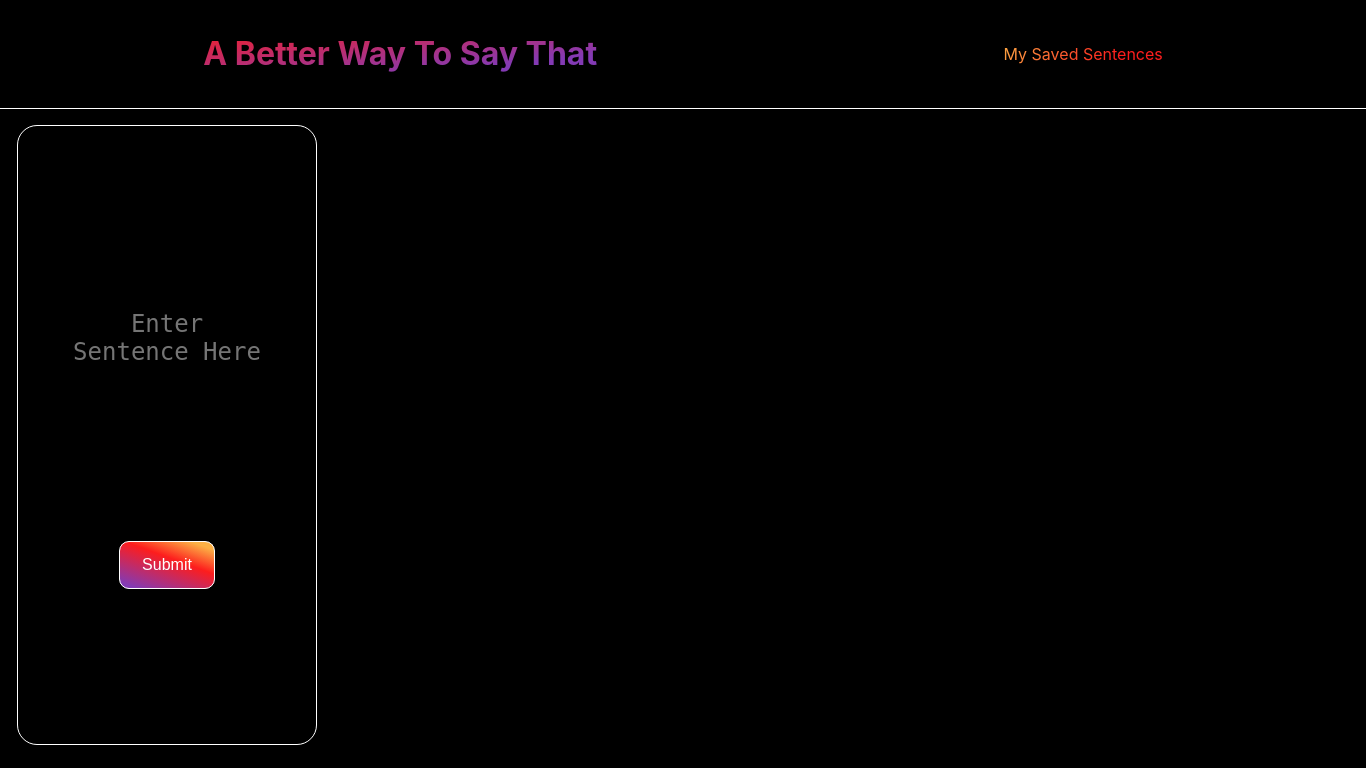
Test: Submit Sentence › Should be able to submit a positive sentence, click the negative option, and see a new negative sentence
The image size is (1366, 768).
Type "Bunnies make me feel happy calm and ecstatic" into the text box with placeholder "Enter Sentence Here" at x=168, y=333, box [39, 281, 296, 384]
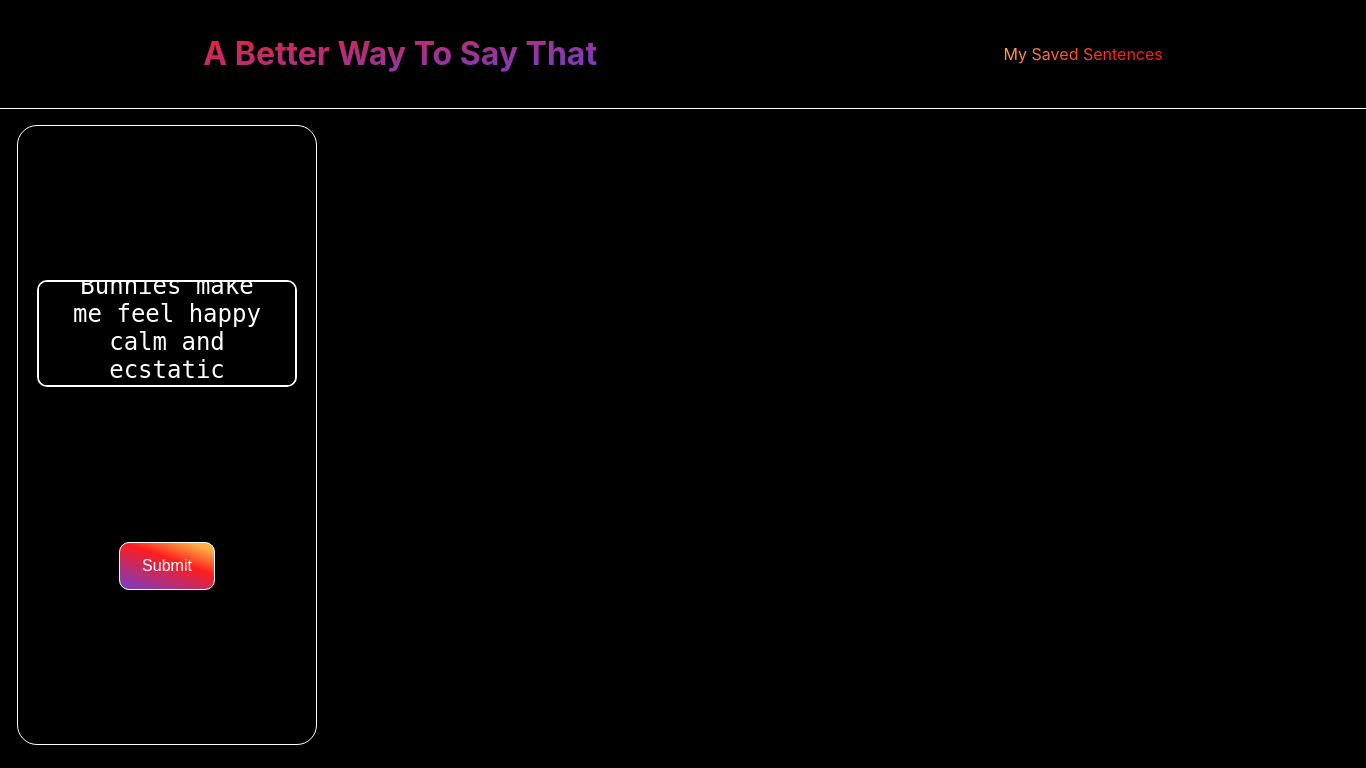
Click the button "Submit" at x=167, y=566, box [119, 542, 215, 590]
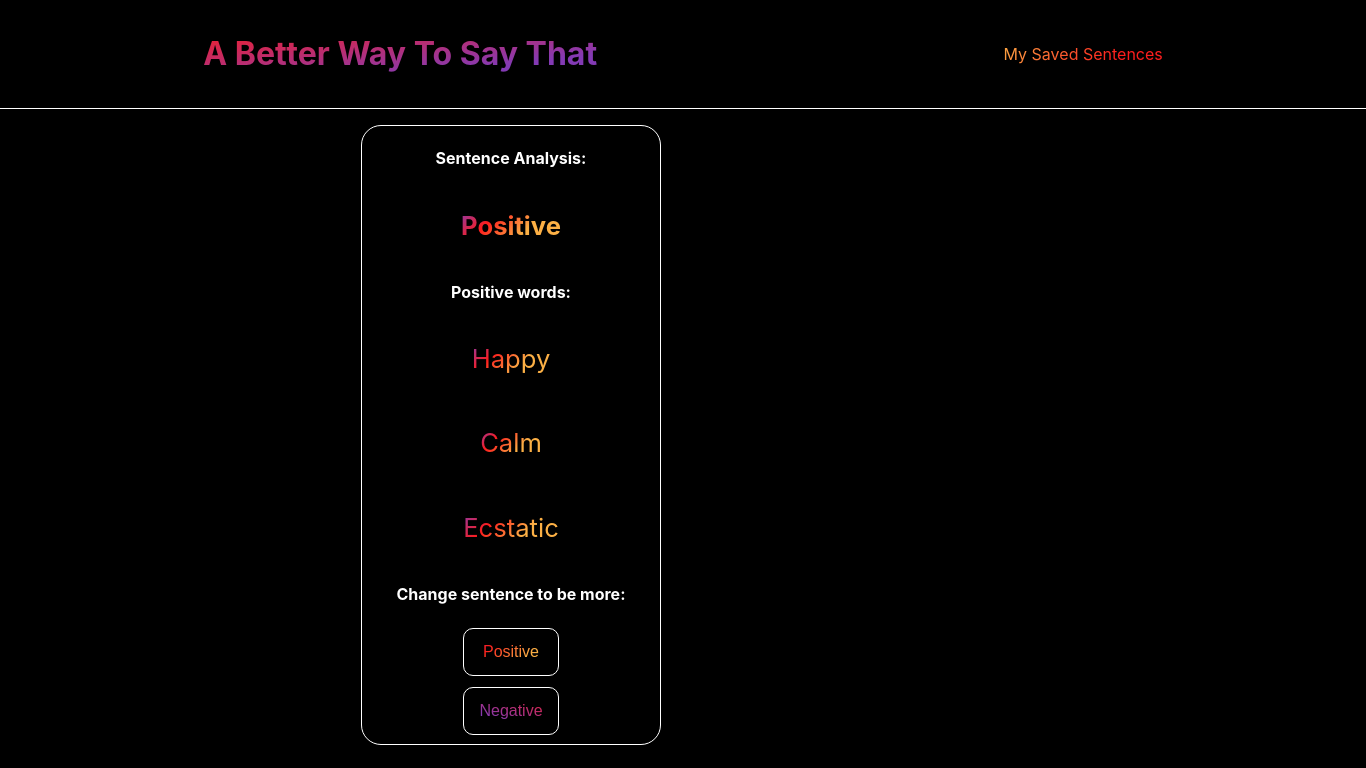
Click the button with class "negative" at x=511, y=711, box [463, 687, 559, 735]
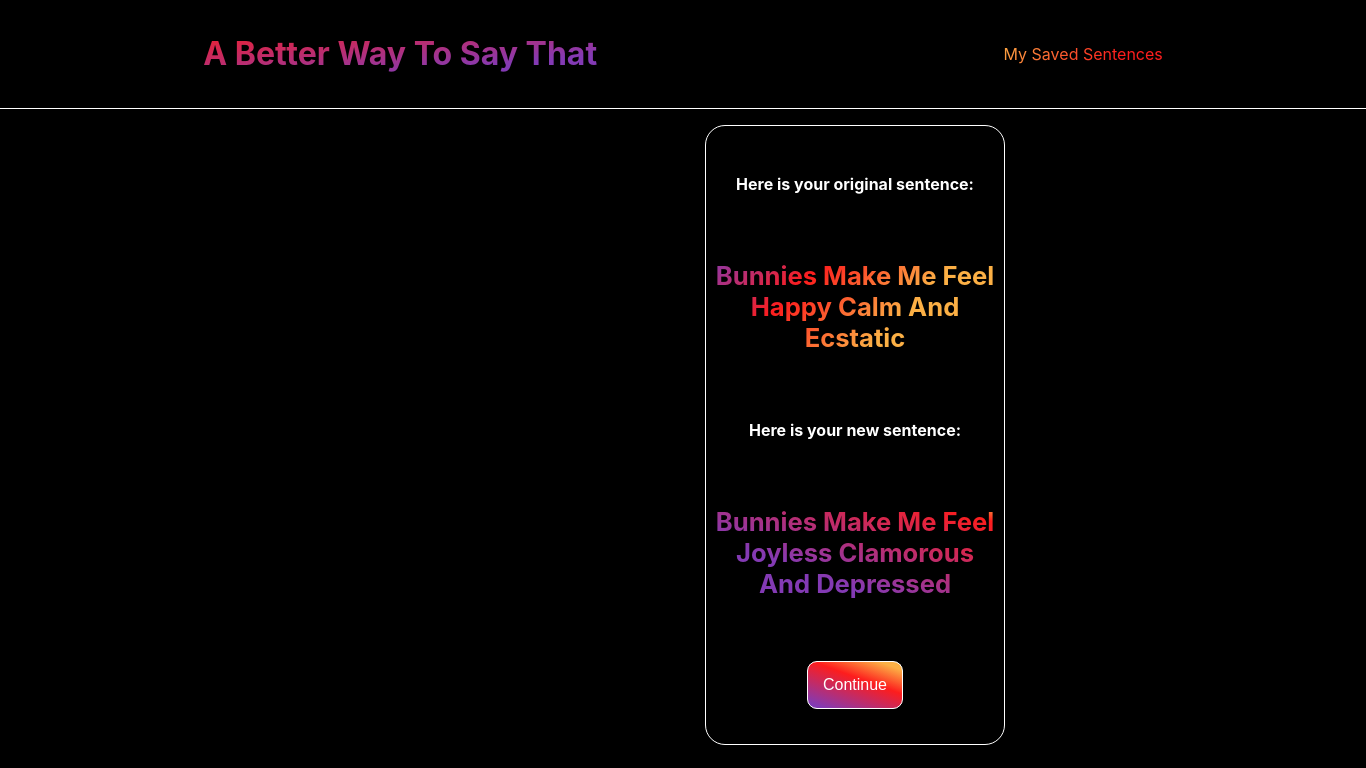
Expected: the button "continue" is shown, [807, 661, 903, 709]
